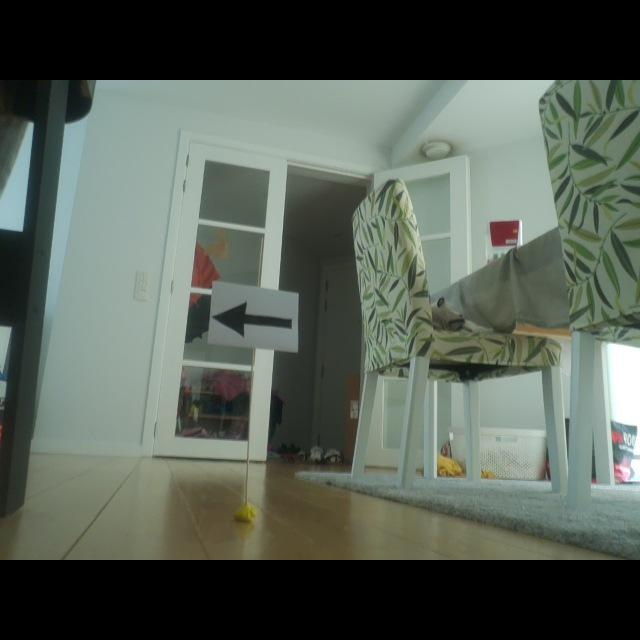balra_nyil: (213, 302, 291, 336)
